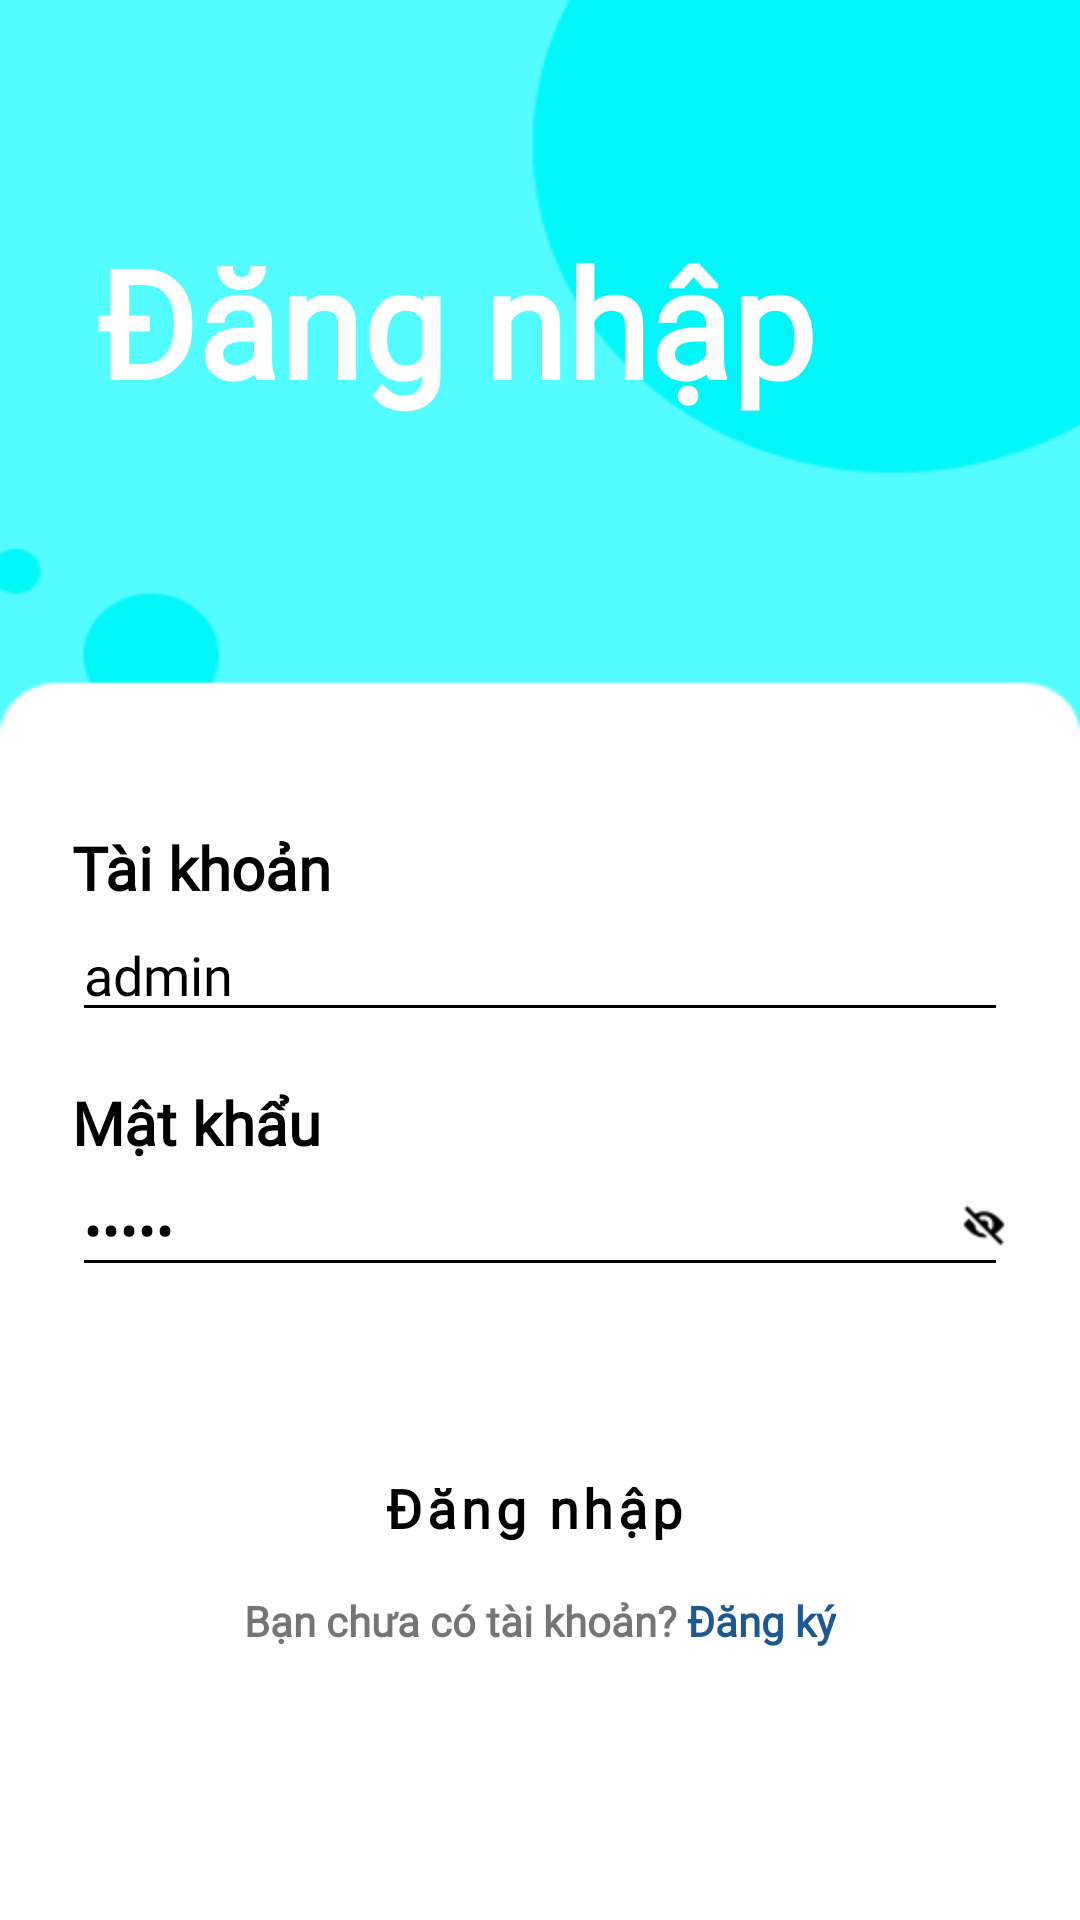

Named icons in this screenshot (1080*1920) and their bounding boxes, (x1, y1, x2, y2):
eye blind: (963, 1205, 1005, 1246)
